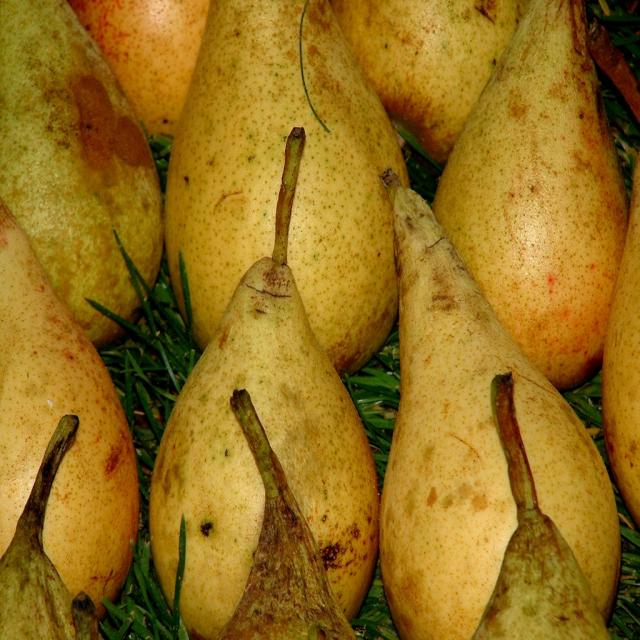pear: (0, 2, 639, 639)
